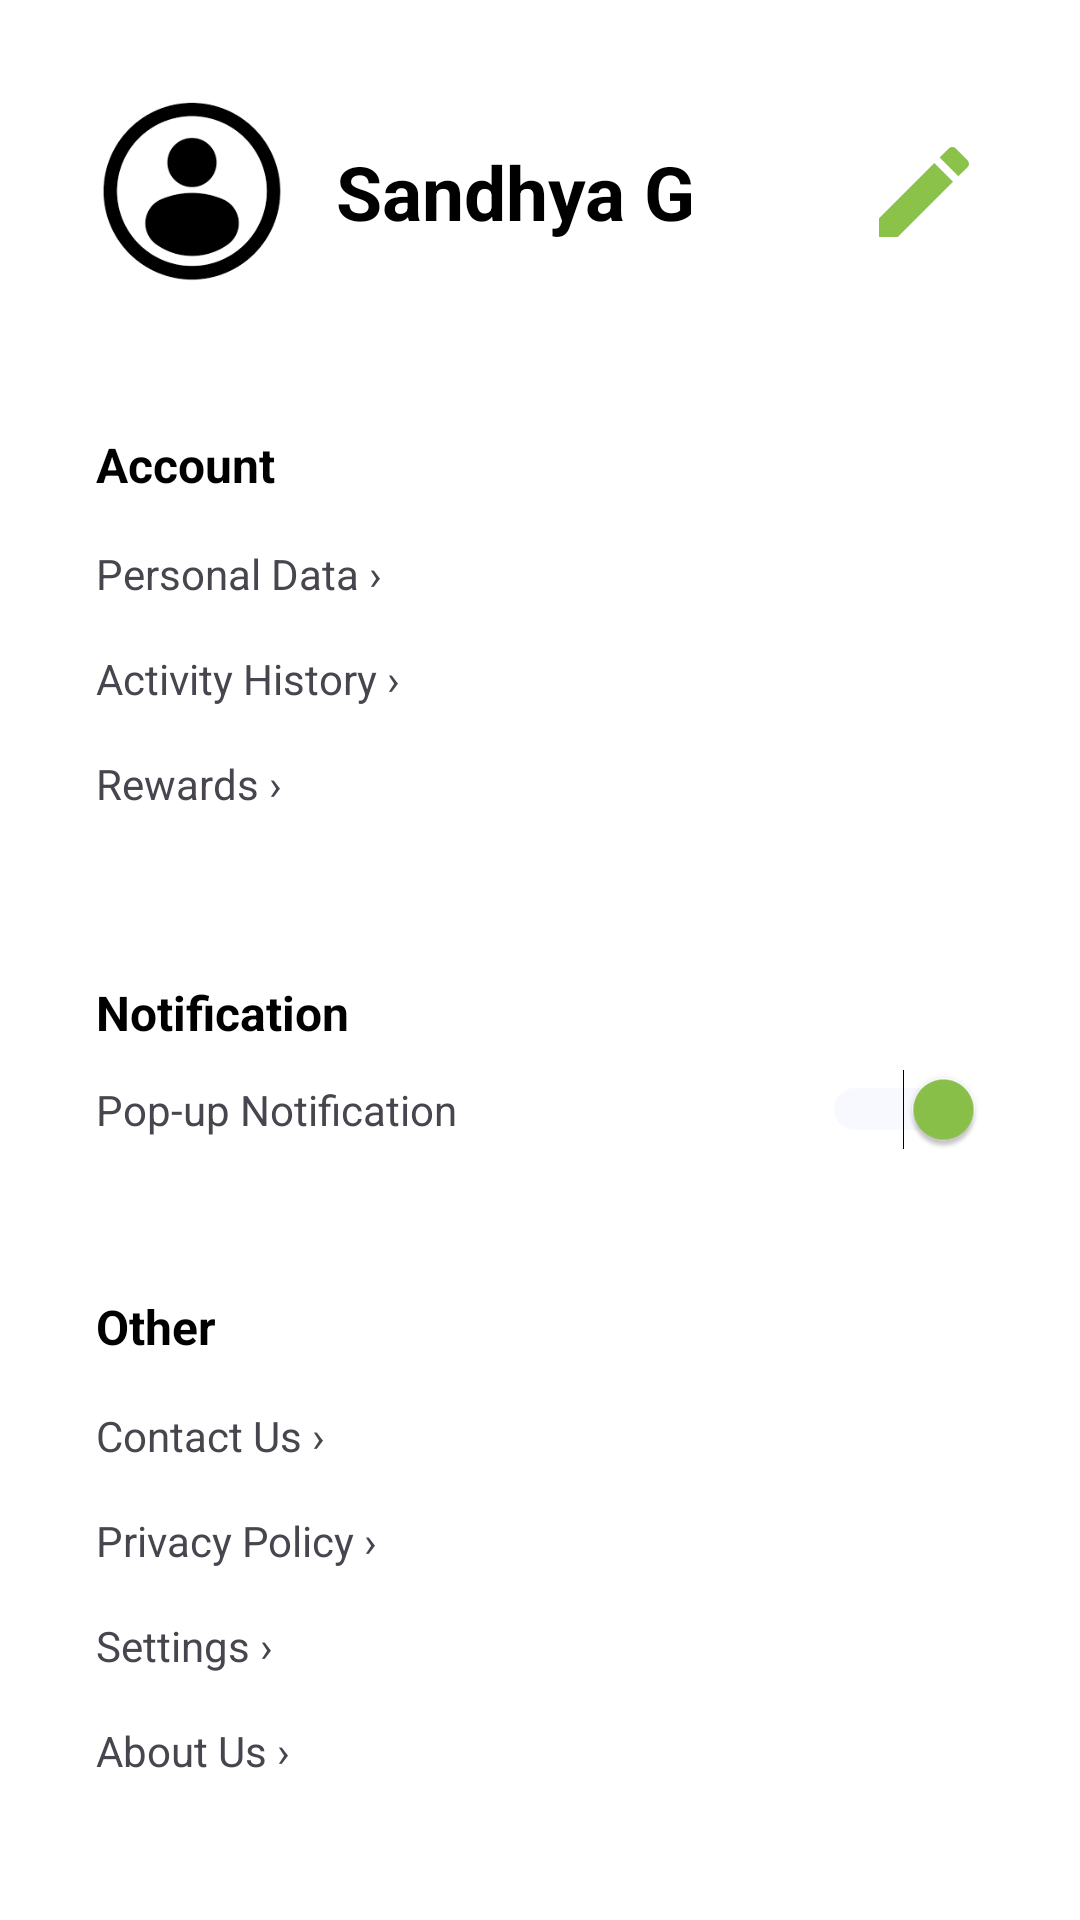

Point at icon controls on the screen. Image size 1080 x 1920, points as (x,y).
Edit profile: (924,192)
